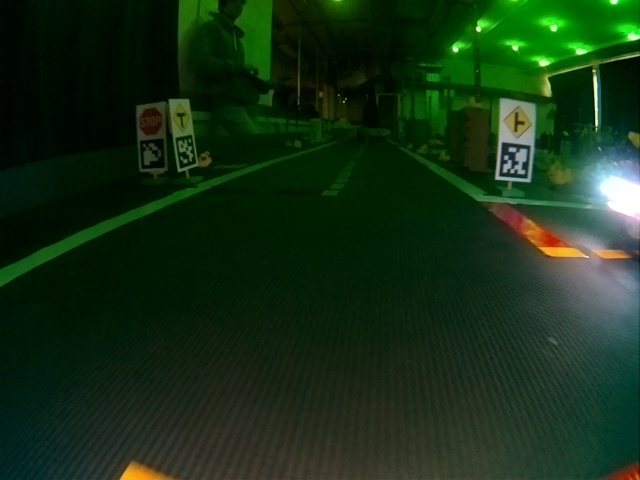Duckie: (552, 173, 565, 184), (198, 154, 208, 166), (440, 151, 450, 161)
Intersection sign: (502, 104, 532, 140), (171, 103, 191, 130)
QR code: (498, 144, 531, 179), (138, 140, 165, 170), (177, 134, 198, 169)
Stop sign: (137, 107, 165, 137)
